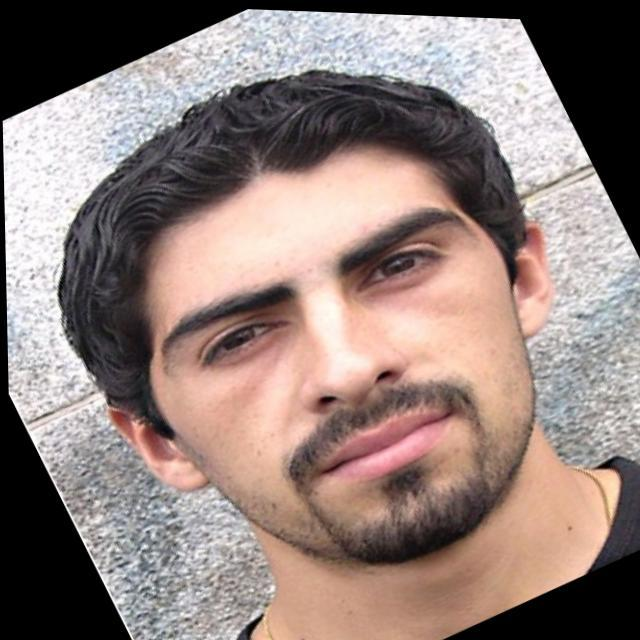Nonhelmet: (48, 59, 558, 567)
